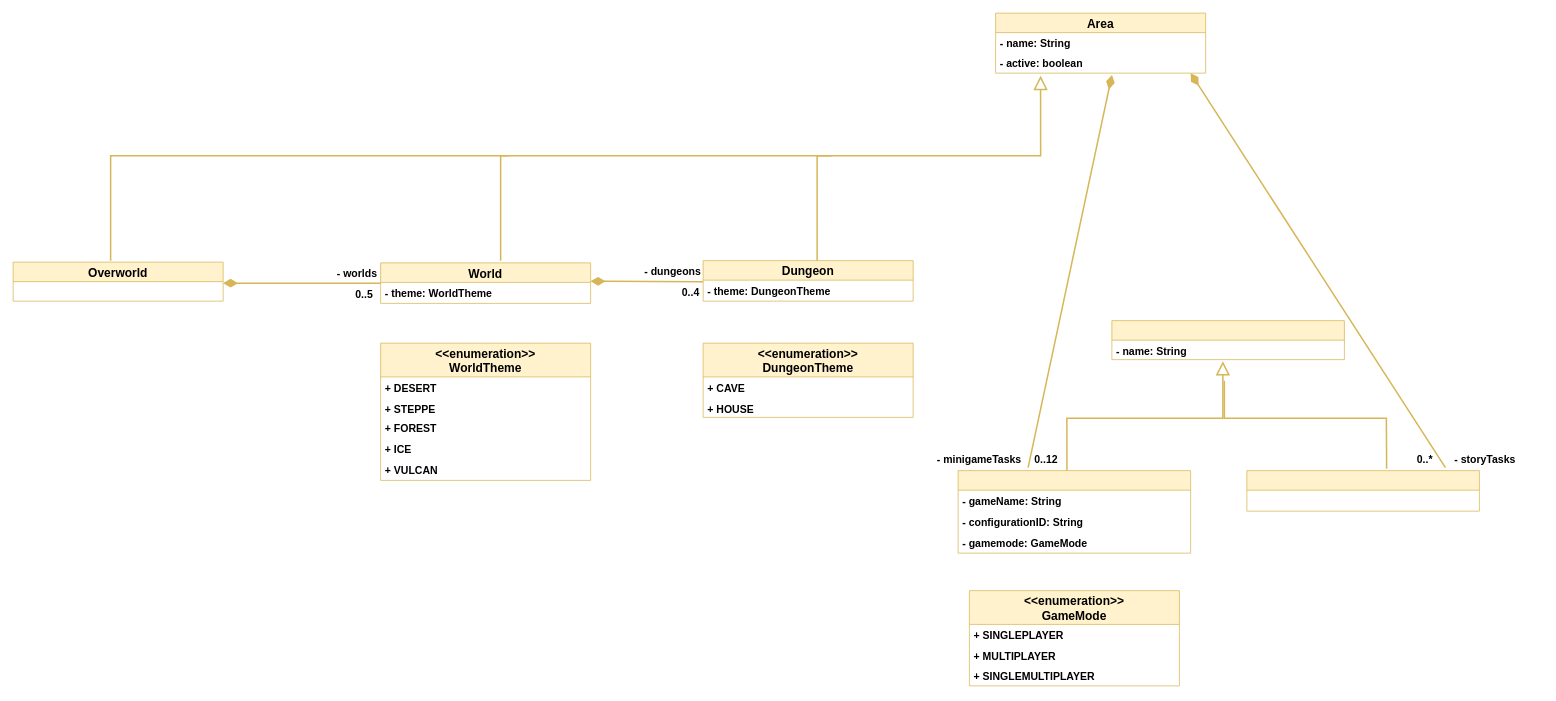
This 1556x701 diagram has some shape labels left out. Each missing label, with the box of its shape:
MinigameTask: (957, 470, 1191, 553)
StoryTask: (1246, 470, 1479, 511)
Task: (1111, 320, 1344, 360)
